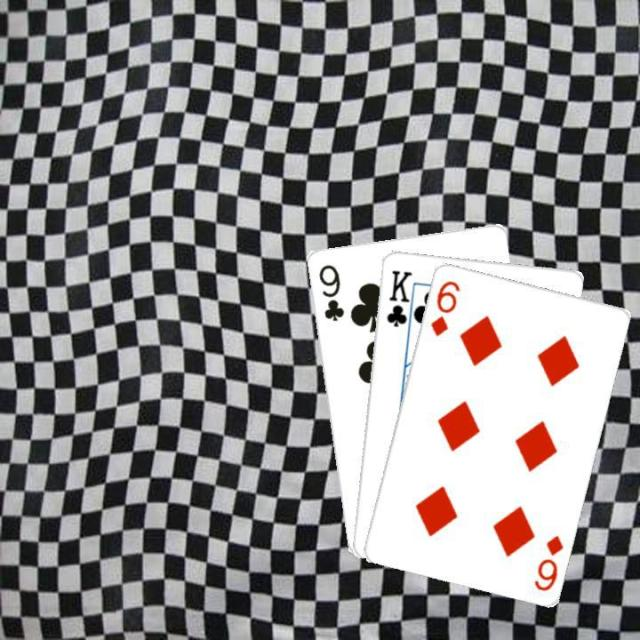6D: (426, 276, 461, 338), (530, 531, 565, 593)
9C: (314, 260, 346, 324)
KC: (382, 266, 418, 336)
